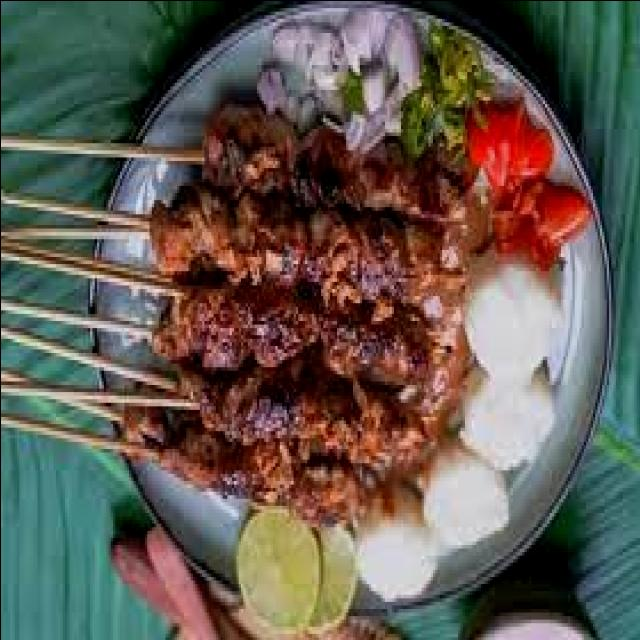sate: (0, 96, 455, 522)
